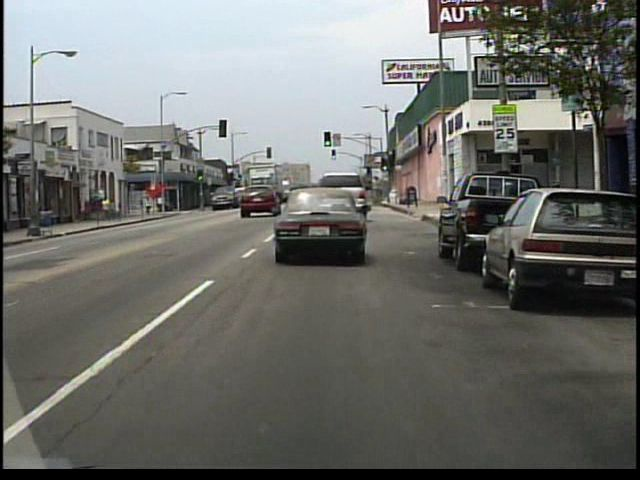person: (103, 195, 113, 222), (144, 196, 153, 216), (109, 198, 117, 220)
